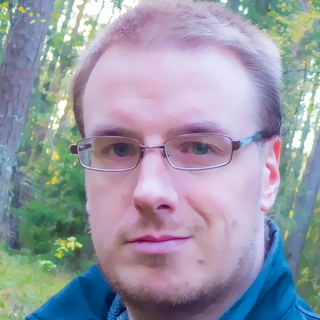eye: (169, 135, 228, 166), (92, 136, 145, 167)
